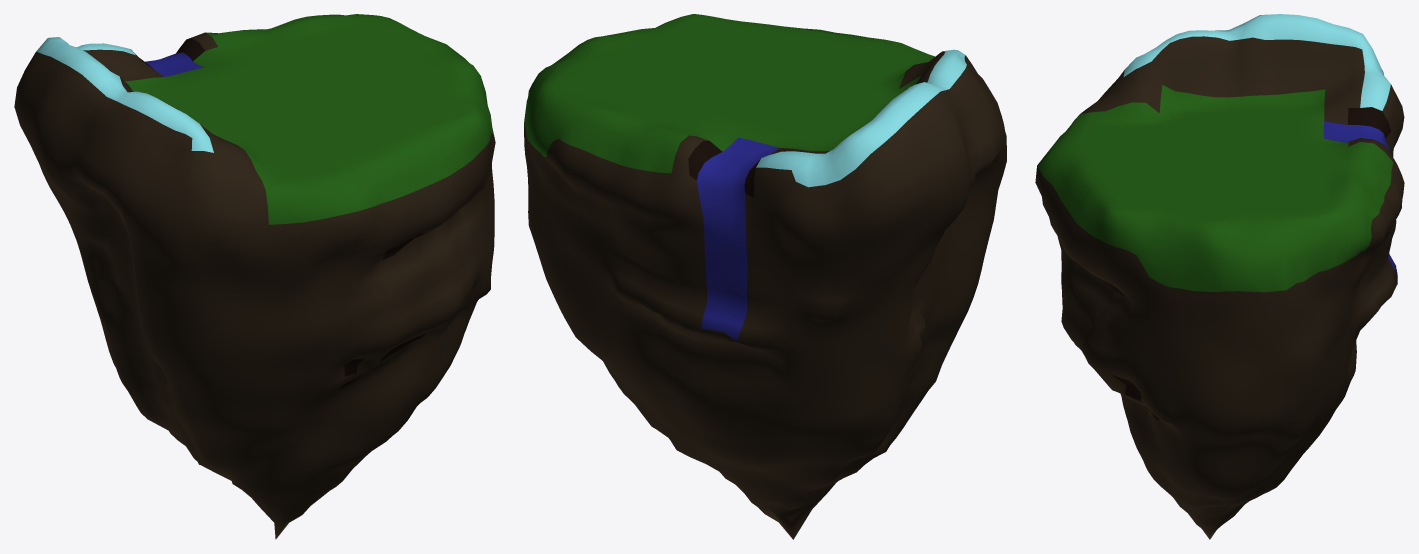
The model's file is TestIsland.FBX.
3 views of the same model, side by side, from view 1: azimuth 30°, elevation 25°; view 2: azimuth 150°, elevation 25°; view 3: azimuth 270°, elevation 25° (orthographic). The views are drawn at different scales.
Visible parts, largest first — view 1: test island; view 2: test island; view 3: test island.
Boxes of the visible parts, bbox=[...] form: test island: bbox=[14, 14, 495, 539]; test island: bbox=[524, 14, 1006, 539]; test island: bbox=[1035, 14, 1404, 539].
Size of the model in its own units: 245 by 273 by 200.
